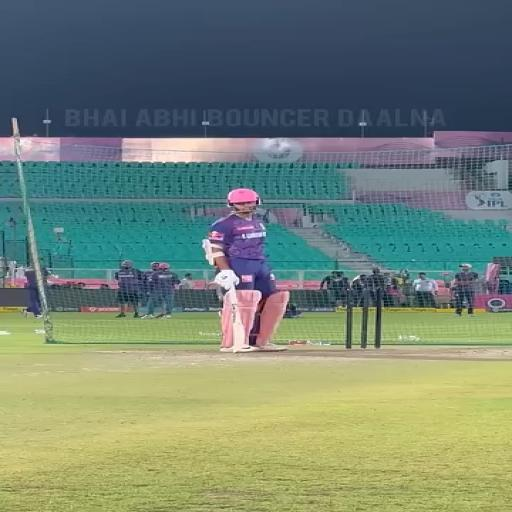Cricket bat: (230, 290, 245, 352)
